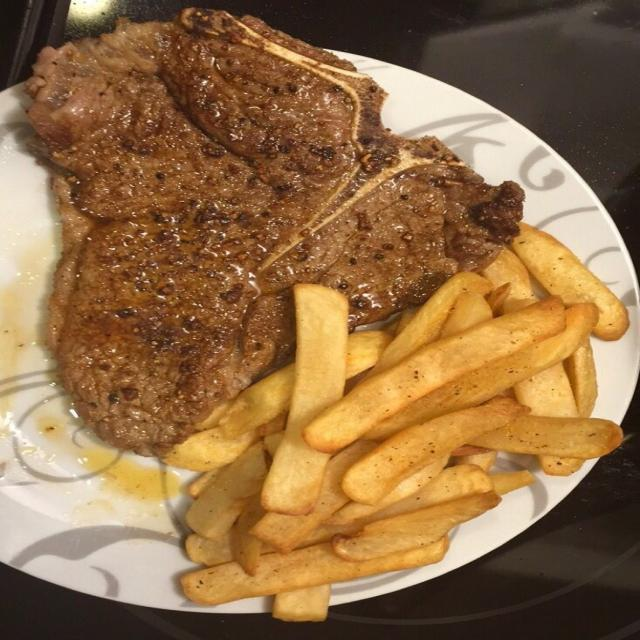beef steak: (28, 10, 523, 454)
potato fries: (304, 296, 564, 452), (366, 304, 594, 440), (261, 285, 348, 515), (342, 399, 528, 504), (182, 536, 448, 605), (250, 441, 373, 553), (512, 224, 628, 339), (334, 465, 492, 534), (187, 444, 265, 540), (468, 416, 622, 459), (217, 363, 293, 437), (163, 428, 259, 471), (482, 249, 537, 312), (515, 363, 577, 416), (231, 494, 265, 575), (564, 339, 597, 417), (272, 584, 330, 622), (348, 330, 390, 378), (186, 531, 232, 565), (302, 526, 327, 545)
